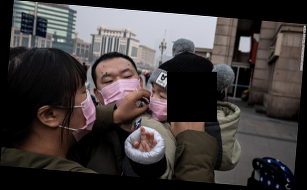with_mask: (59, 84, 98, 142), (96, 66, 141, 113), (149, 84, 179, 122)
